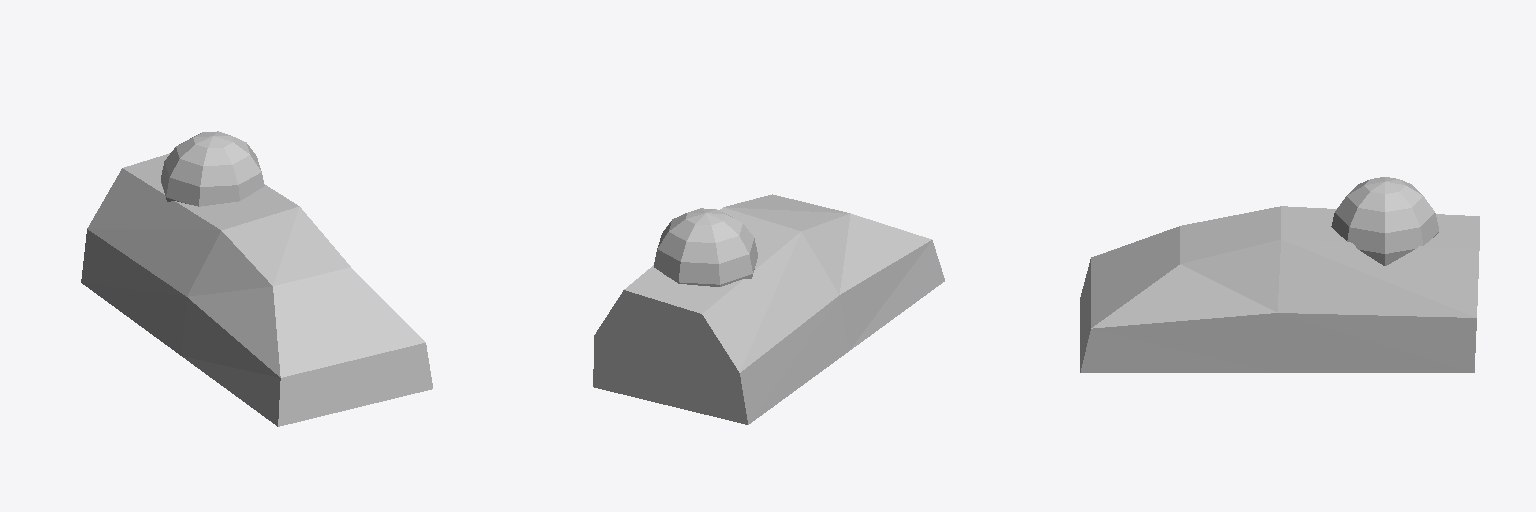
The model's file is right_foot.obj.
3 views of the same model, side by side, from view 1: azimuth 30°, elevation 25°; view 2: azimuth 150°, elevation 25°; view 3: azimuth 270°, elevation 25° (orthographic).
Parts seen in each view (by area): view 1: Right_Foot.001_Cube.020; view 2: Right_Foot.001_Cube.020; view 3: Right_Foot.001_Cube.020.
Part boxes in pixels (x1,y1,x2,y2): Right_Foot.001_Cube.020: (81,131,432,426); Right_Foot.001_Cube.020: (593,194,944,424); Right_Foot.001_Cube.020: (1080,177,1479,372).
Bounding box in the file's own units: 0.2018 × 0.1961 × 0.4489.